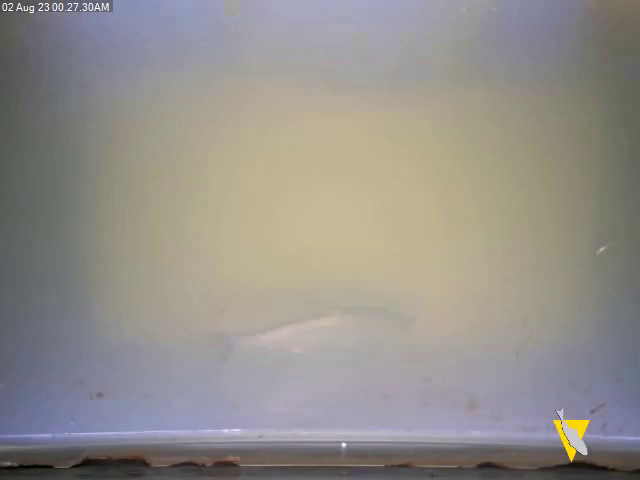\uAC15\uC900\uCE58: (203, 302, 418, 364)
